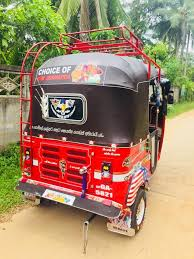tuk tuk: (15, 48, 170, 236)
